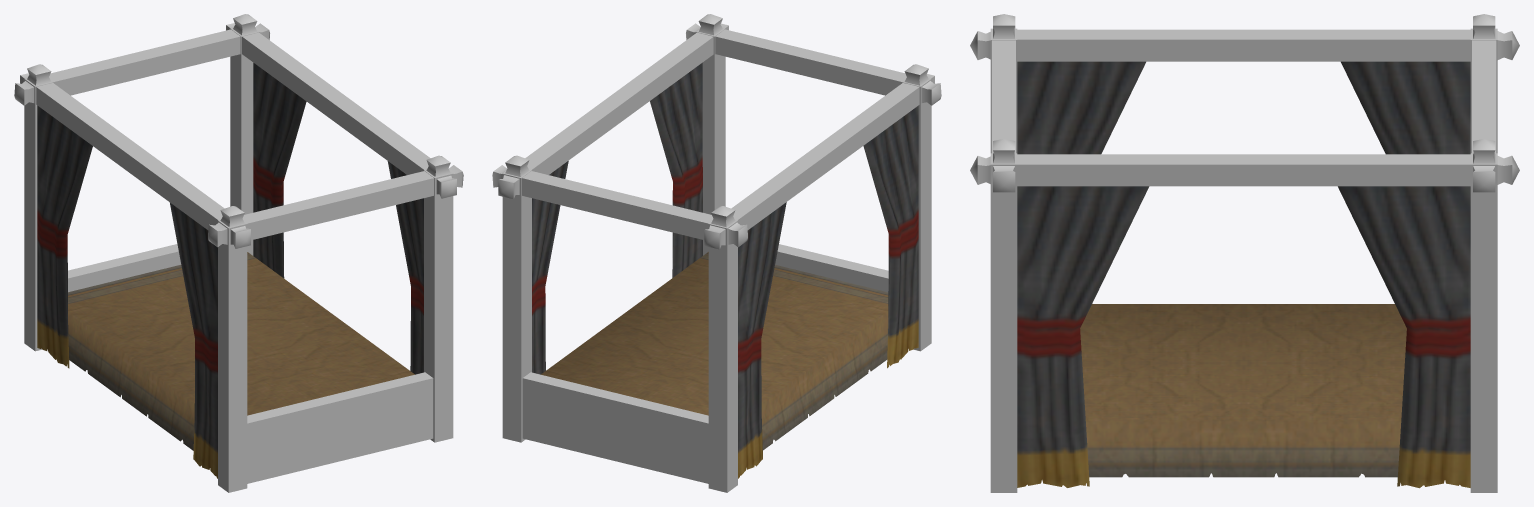
The model's file is Bed_6C.fbx.
3 views of the same model, side by side, from view 1: azimuth 30°, elevation 25°; view 2: azimuth 150°, elevation 25°; view 3: azimuth 270°, elevation 25° (orthographic). The views are drawn at different scales.
Visible parts, largest first — view 1: polySurface7937, Alpha; view 2: polySurface7937, Alpha; view 3: Alpha, polySurface7937.
Part boxes in pixels (x1,y1,x2,y2): polySurface7937: (14, 14, 463, 492); Alpha: (37, 63, 423, 478); polySurface7937: (492, 14, 941, 492); Alpha: (532, 62, 918, 478); Alpha: (1017, 61, 1470, 488); polySurface7937: (970, 14, 1519, 492).
Bounding box in the file's own units: 2.73 × 2.87 × 4.1.
